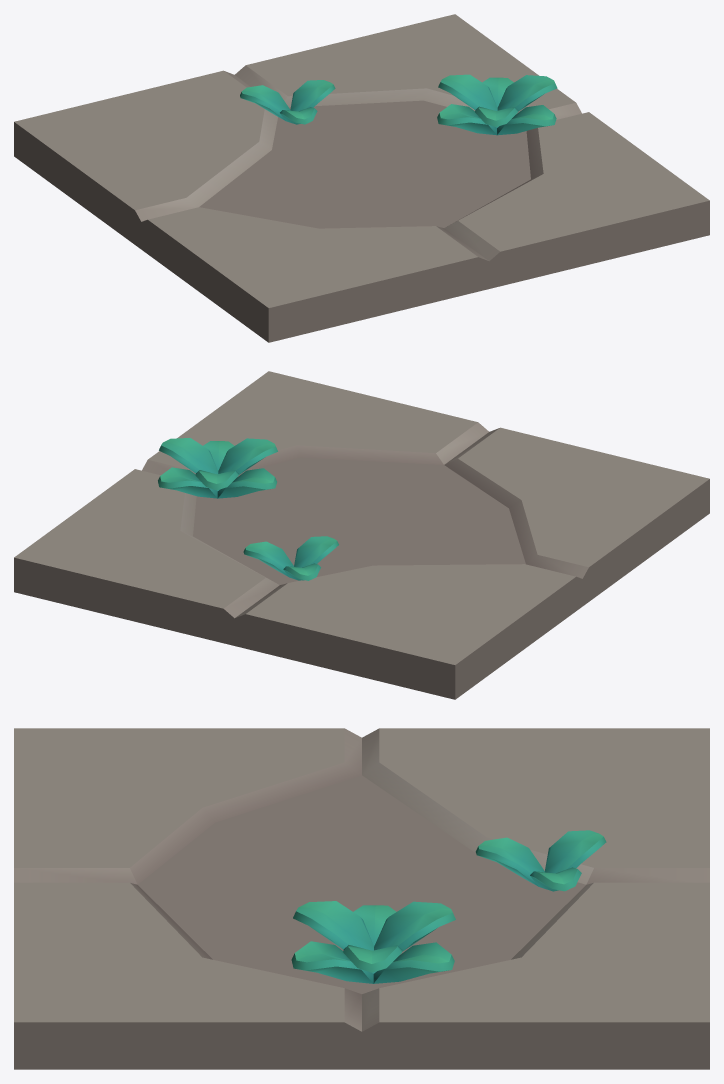
The model's file is floor_weeds2.fbx.
The picture shows the model from 3 angles, top to bottom: view 1: azimuth 30°, elevation 25°; view 2: azimuth 150°, elevation 25°; view 3: azimuth 270°, elevation 25°; orthographic projection. The views are drawn at different scales.
Visible parts, largest first — view 1: floor_tile_small_weeds_B; view 2: floor_tile_small_weeds_B; view 3: floor_tile_small_weeds_B.
Boxes of the visible parts, x1,y1,x2,y2 form: floor_tile_small_weeds_B: (14, 14, 709, 342); floor_tile_small_weeds_B: (14, 371, 709, 699); floor_tile_small_weeds_B: (14, 728, 709, 1069).
Size of the model in its own units: 200 by 29.55 by 200.
1 material, 1 textured.
